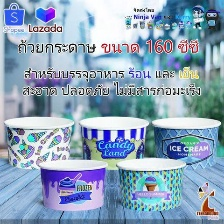paper_cup: (75, 113, 152, 173), (148, 112, 223, 173), (1, 113, 75, 173), (113, 155, 189, 213), (34, 156, 110, 213)
